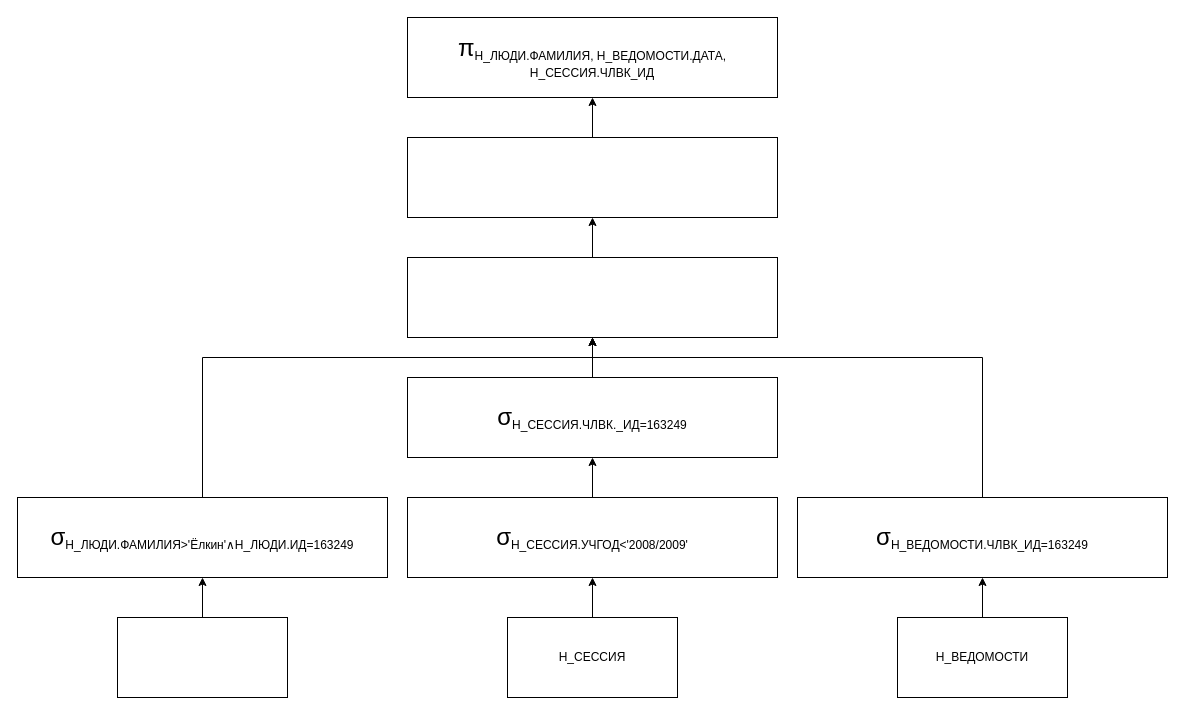
Some shapes in this 1185 by 715 pixel diagram are drawn without their labels. The centre of each missing label's shape, as x and y in pixels:
Н_ЛЮДИ: the point at 202,657
⋈ Н_ЛЮДИ.ИД=Н_ВЕДОМОСТИ.ЧЛВК_ИД: the point at 592,177
⋈ Н_ЛЮДИ.ИД=Н_СЕССИЯ.ЧЛВК_ИД: the point at 592,297
